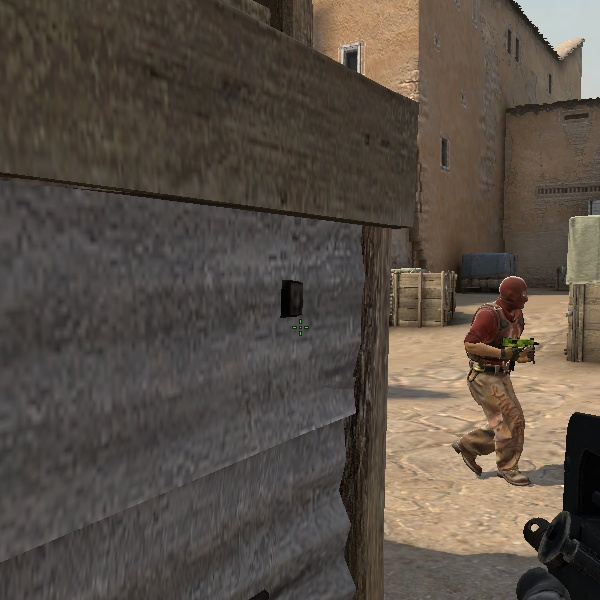t_body: (443, 277, 560, 493)
t_head: (485, 276, 535, 325)
